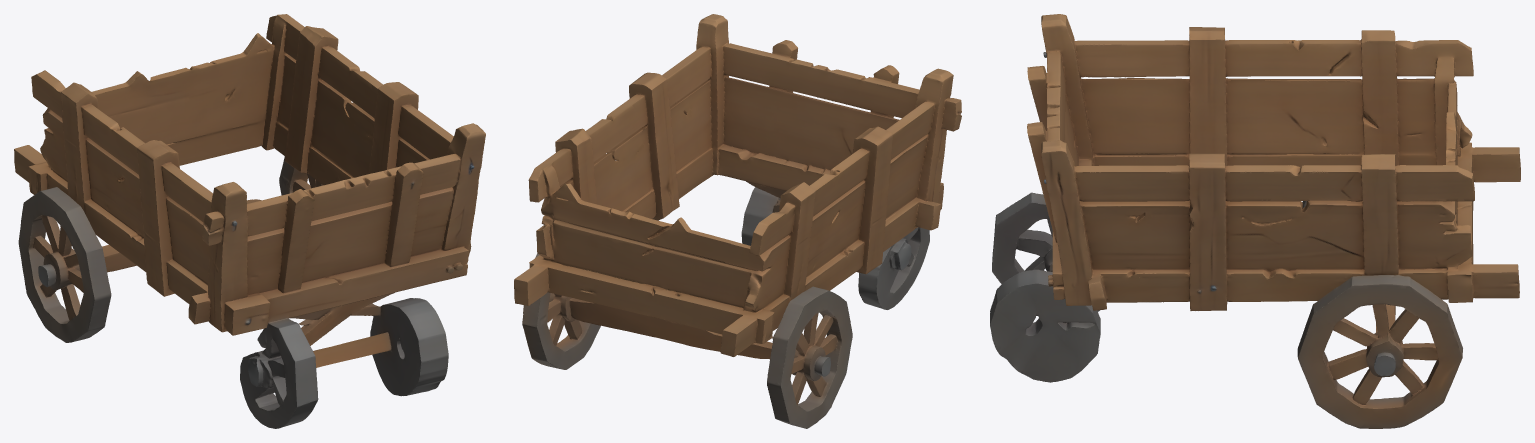
Rendered from ENV_CART_01.glb.
3 renders of one model, left to right at view 1: azimuth 30°, elevation 25°; view 2: azimuth 150°, elevation 25°; view 3: azimuth 270°, elevation 25°, orthographic. The views are drawn at different scales.
Visible parts, largest first — view 1: model; view 2: model; view 3: model.
Part boxes in pixels (x1,y1,x2,y2): model: [14, 14, 485, 428]; model: [514, 14, 961, 428]; model: [990, 14, 1520, 428].
Bounding box in the file's own units: 1.22 × 1.01 × 1.74.
Materials: 1 (1 with a texture image).
